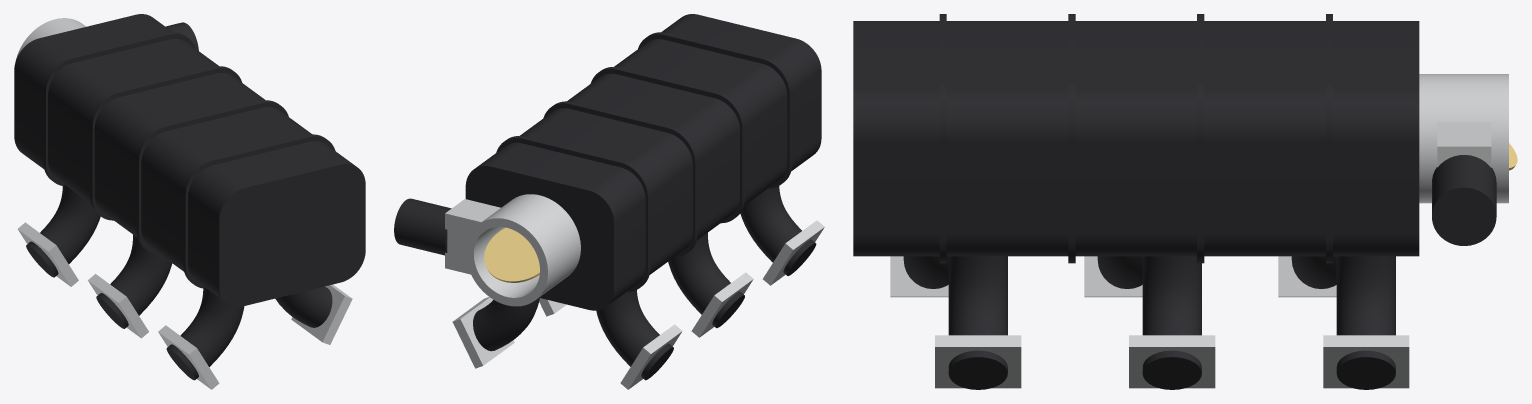
File: intake.glb
3 renders of one model, left to right at view 1: azimuth 30°, elevation 25°; view 2: azimuth 150°, elevation 25°; view 3: azimuth 270°, elevation 25°, orthographic. The views are drawn at different scales.
Visible parts, largest first — view 1: black_0, alu_cast_1; view 2: black_0, alu_cast_1, brass_2; view 3: black_0, alu_cast_1.
Part boxes in pixels (x1,y1,x2,y2): black_0: (14,14,365,380); alu_cast_1: (15,18,352,389); black_0: (394,14,821,380); alu_cast_1: (445,194,824,389); brass_2: (484,227,539,282); black_0: (853,14,1496,389); alu_cast_1: (890,74,1508,388).
Size of the model in its own units: 0.1848 by 0.1794 by 0.3697.
